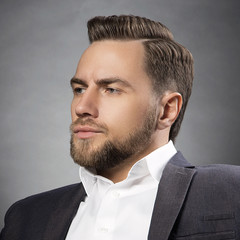young: (55, 6, 193, 170)
